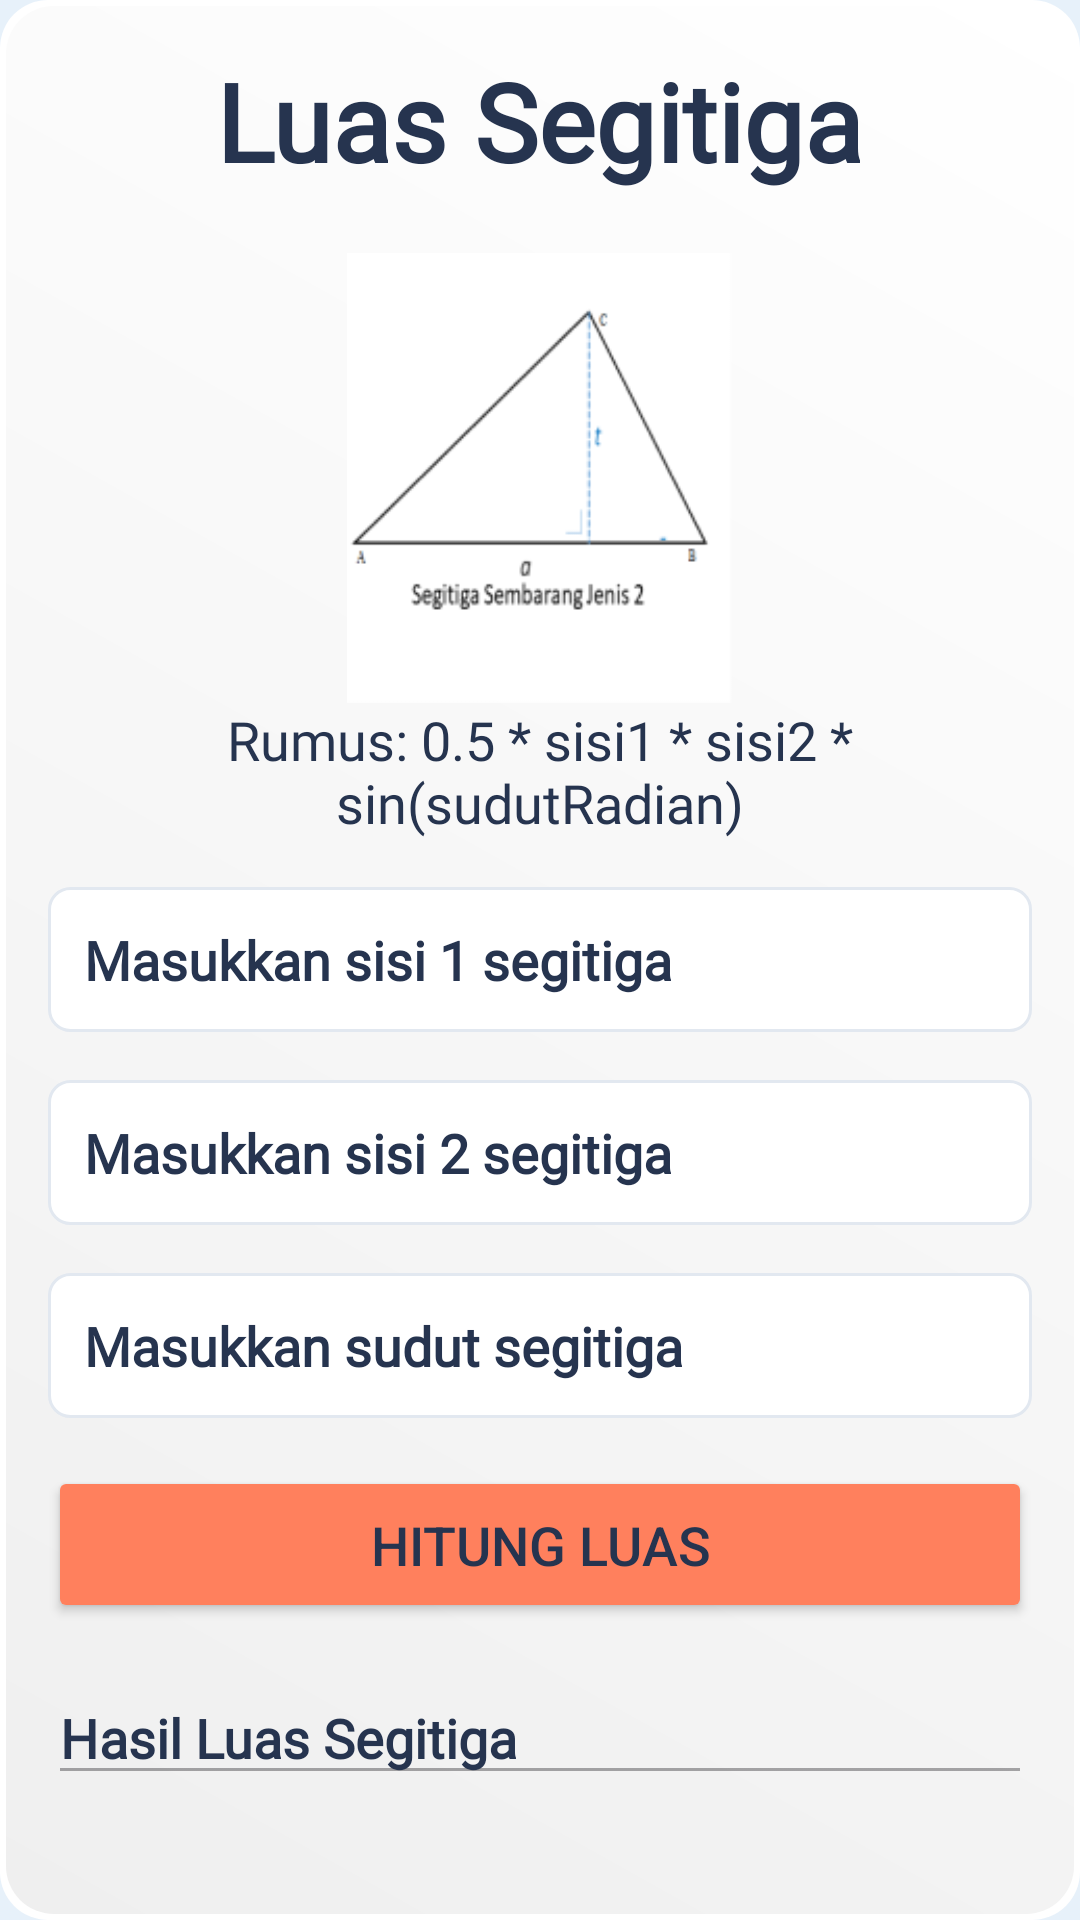

Icons on this 1080w x 1920h Android screen, each with its box as bbox=(x1, y1, x2, y2):
gambar: bbox=(352, 310, 708, 610)
